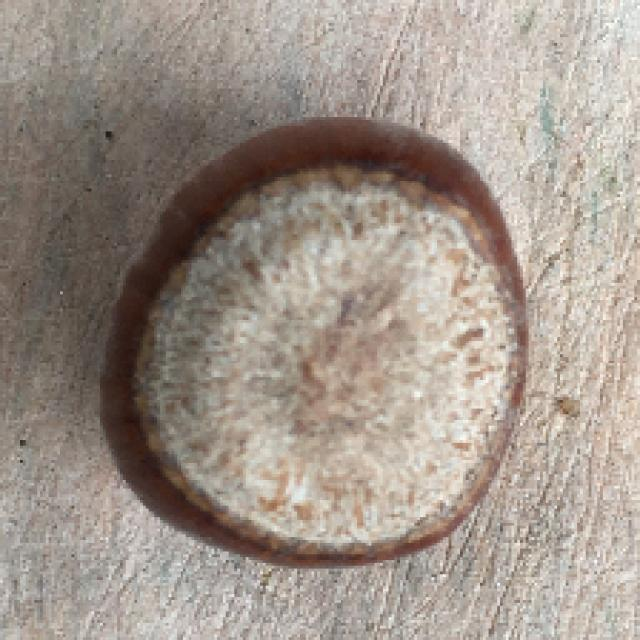qualityHazelnut: (97, 111, 532, 571)
